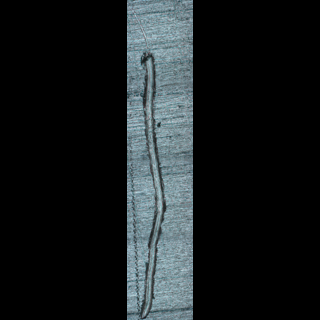d: (134, 47, 167, 319)
